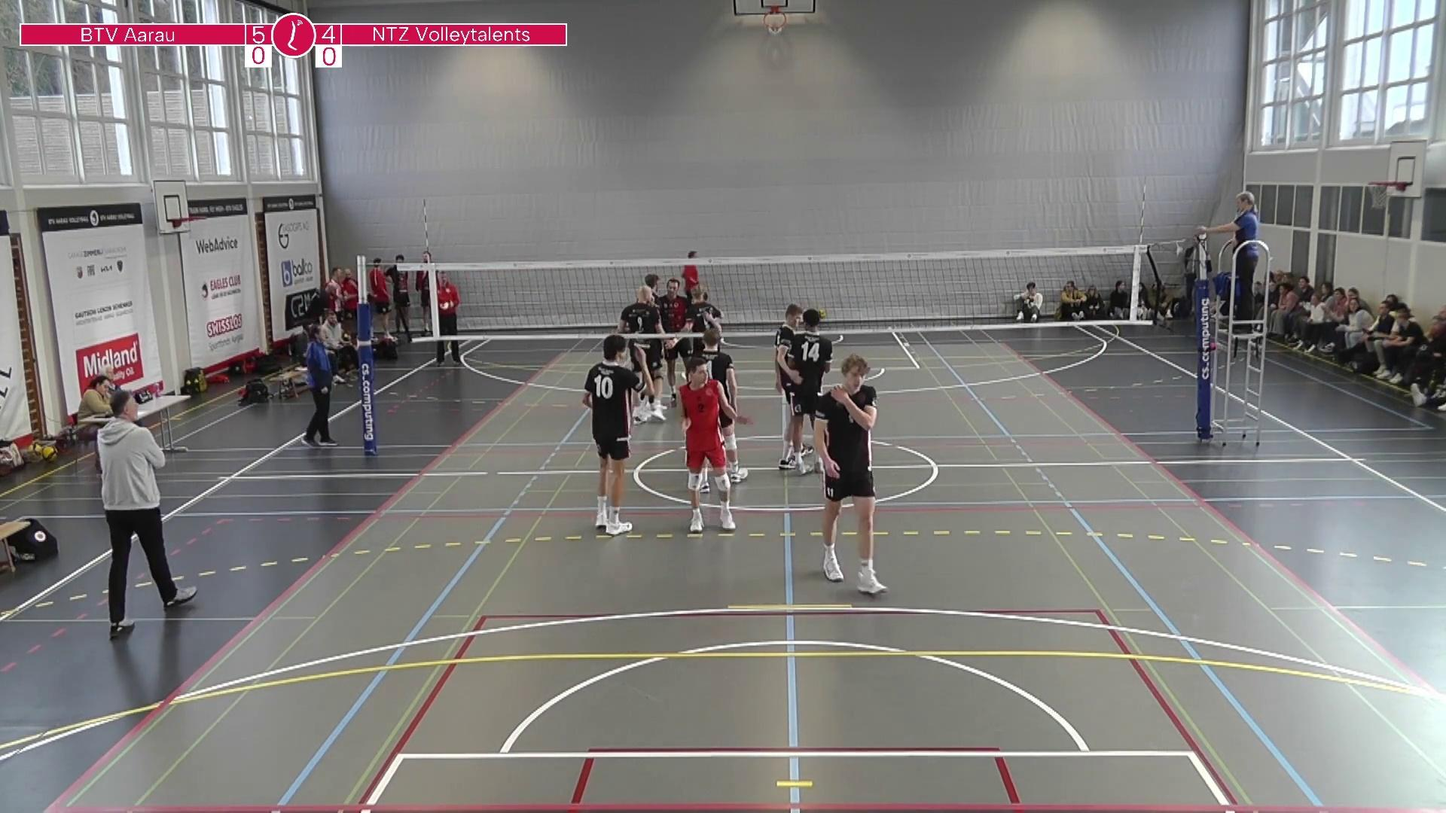Player: (811, 355, 886, 595), (680, 351, 743, 534), (584, 332, 640, 535), (779, 309, 832, 473), (703, 330, 746, 486), (619, 284, 665, 422), (772, 303, 807, 470), (657, 273, 694, 396), (691, 288, 724, 355), (679, 251, 702, 306)
